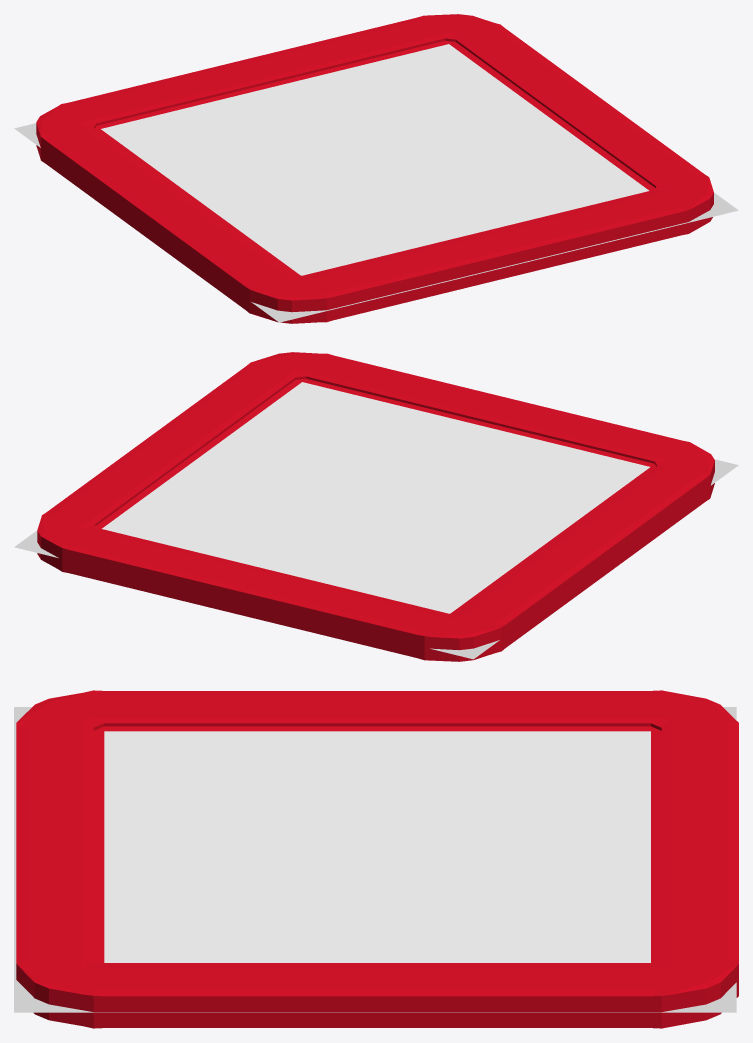
Rendered from Tile A 4x4 textured.fbx.
The picture shows the model from 3 angles, top to bottom: view 1: azimuth 30°, elevation 25°; view 2: azimuth 150°, elevation 25°; view 3: azimuth 270°, elevation 25°; orthographic projection. The views are drawn at different scales.
Parts seen in each view (by area): view 1: Tile A 4x4, Plane.001; view 2: Tile A 4x4, Plane.001; view 3: Tile A 4x4, Plane.001.
Part boxes in pixels (x1,y1,x2,y2): Tile A 4x4: (36, 14, 713, 323); Plane.001: (14, 123, 738, 322); Tile A 4x4: (37, 352, 714, 661); Plane.001: (14, 353, 738, 659); Tile A 4x4: (16, 690, 738, 1028); Plane.001: (14, 707, 736, 1012).
Bounding box in the file's own units: 400 × 20 × 401.
